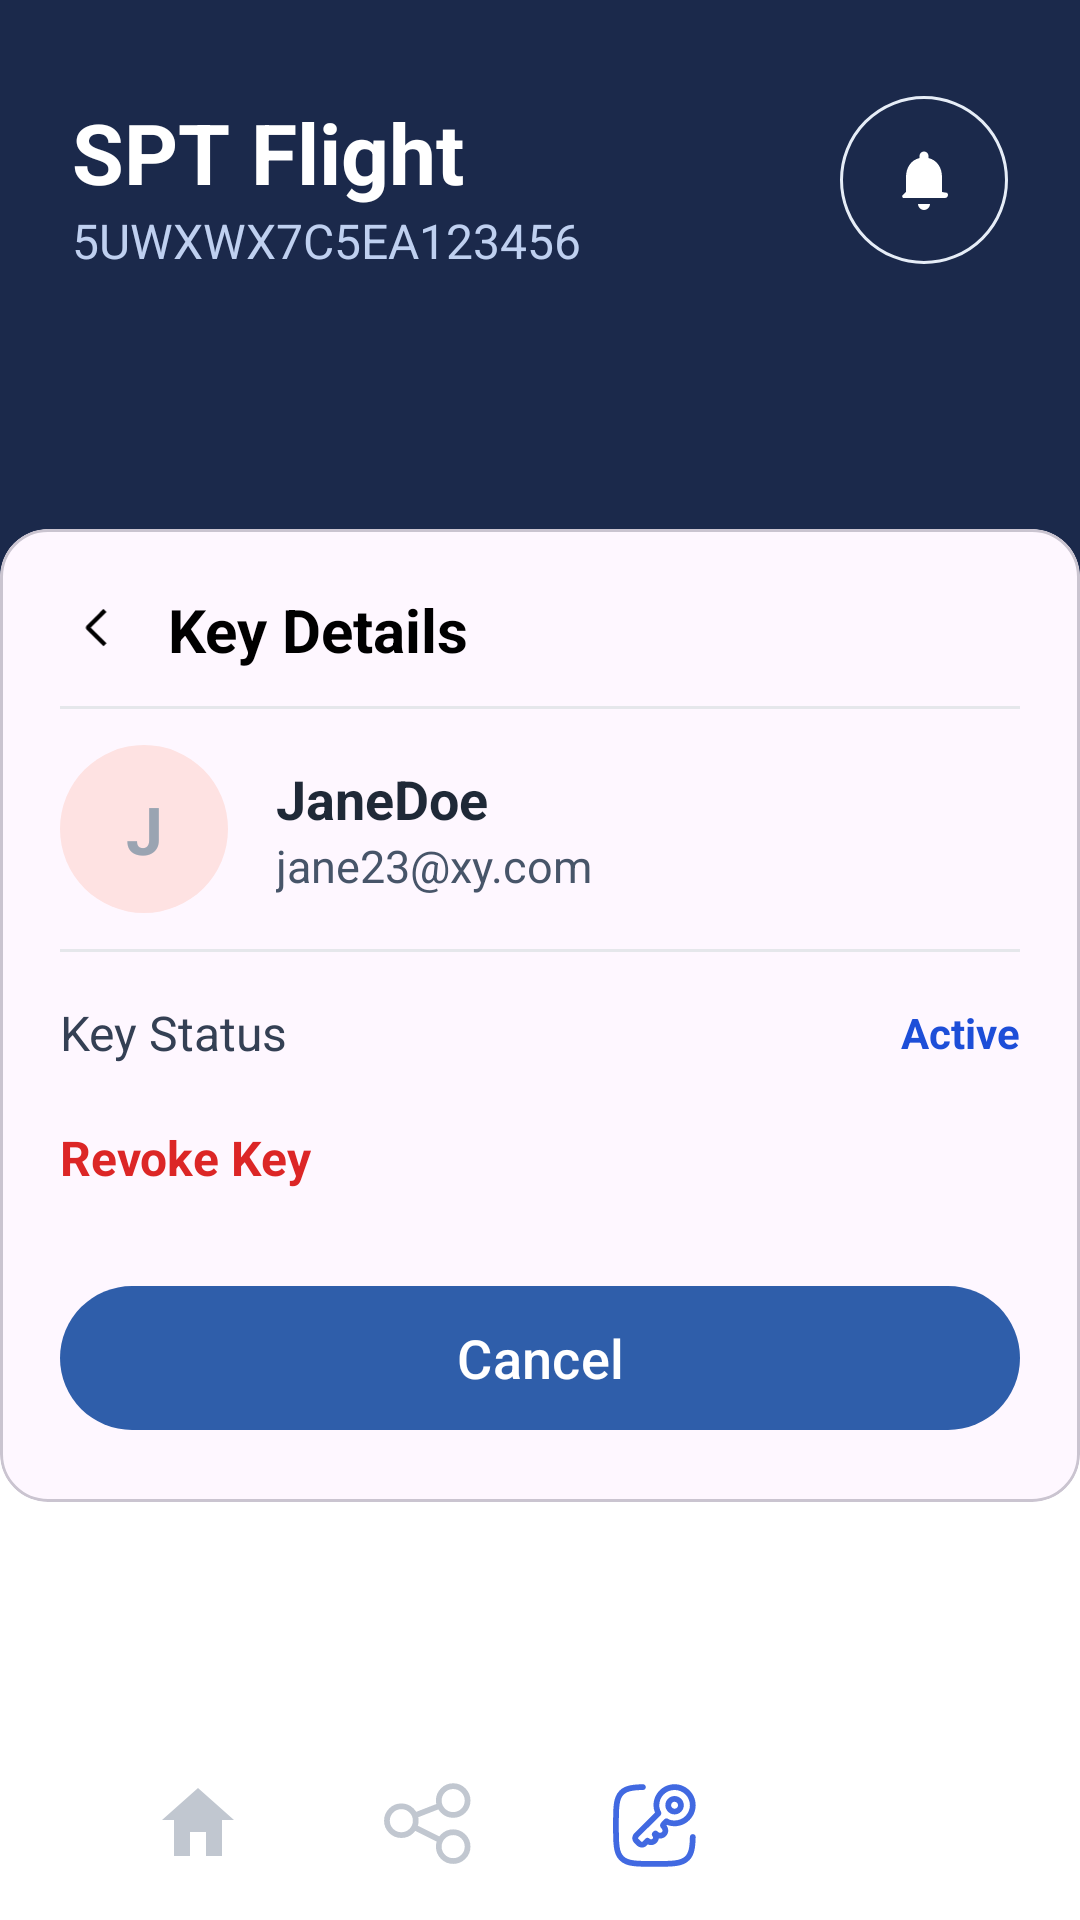

Screen size 1080px×1920px. Icon name, then its center in pixels as [x,y]:
Back: [96,627]
Home: [198,1822]
Keys: [654,1825]
Notifications: [925,180]
Share: [427,1823]
